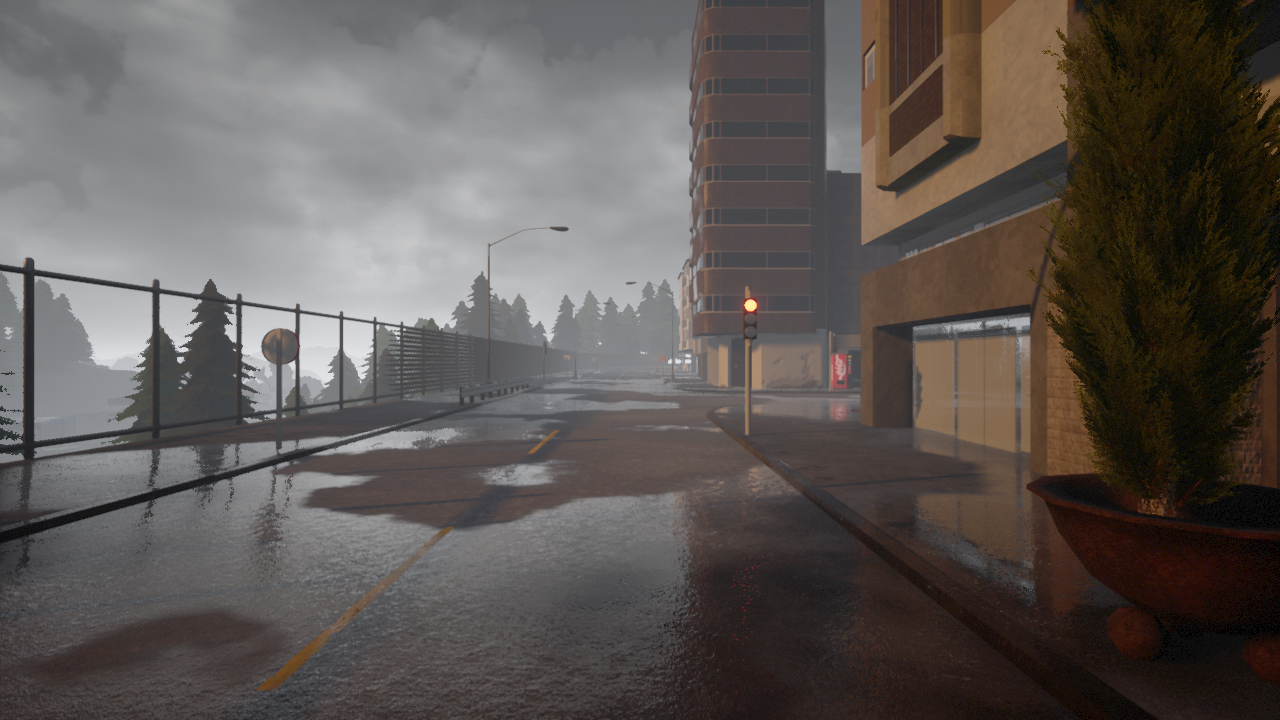red: (742, 297, 759, 341)
